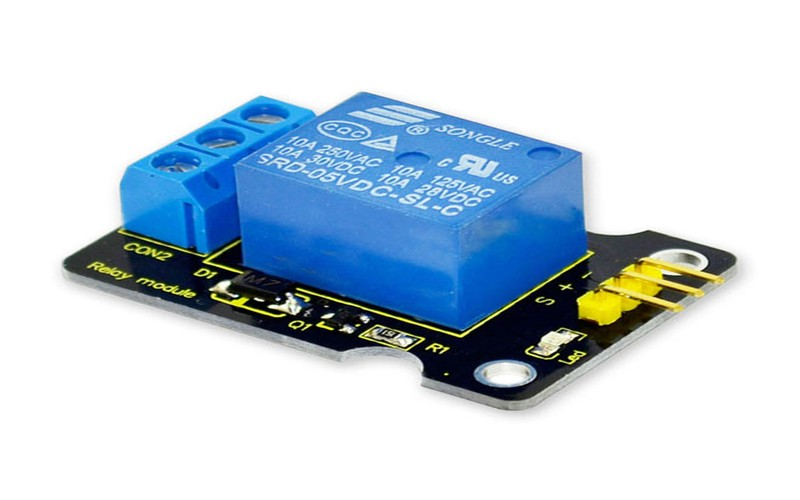Switches: (64, 73, 749, 403)
